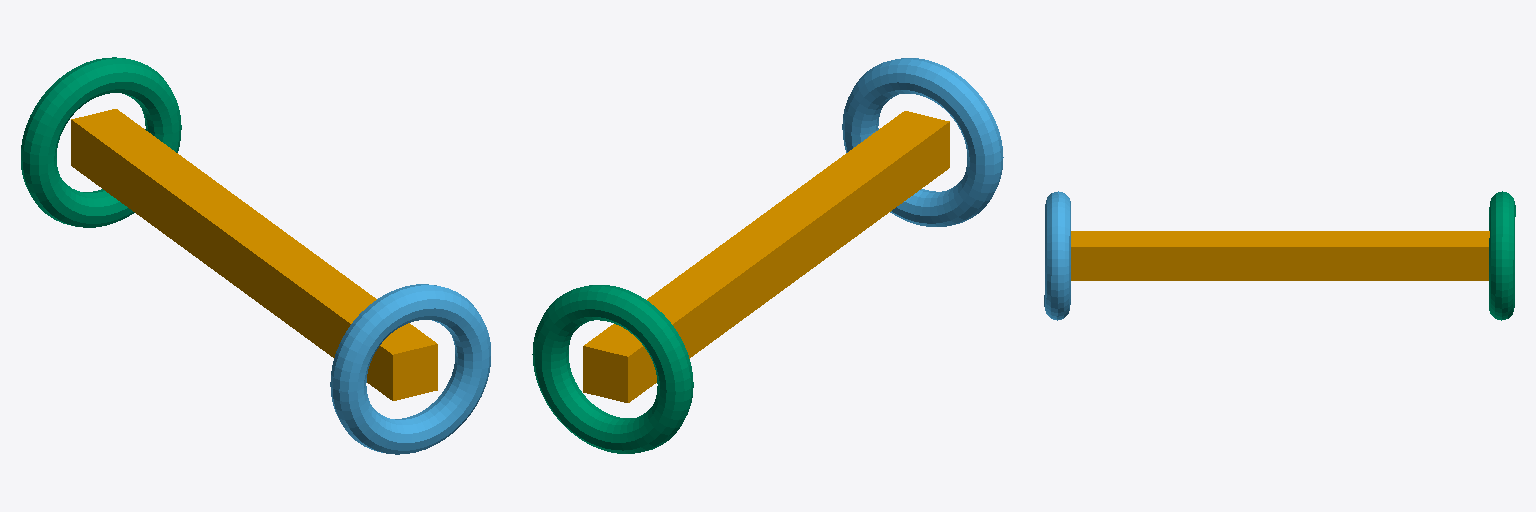
The robot description file, URDF, robot "test":
<robot name="test" version="1.0">
  <joint name="left_wheel_link_joint" type="revolute">
    <limit lower="-3.14000" upper="3.14000" effort="0.00000" velocity="0.00000"/>
    <origin rpy="1.56147 0.00000 0.00000" xyz="0.00000 -1.27497 0.00000"/>
    <parent link="axis_link"/>
    <child link="left_wheel_link"/>
    <axis xyz="0.00000 0.00000 1.00000"/>
  </joint>
  <joint name="right_wheel_link_joint" type="revolute">
    <limit lower="-3.14000" upper="3.14000" effort="0.00000" velocity="0.00000"/>
    <origin rpy="1.56147 0.00000 0.00000" xyz="0.00000 1.25266 0.00000"/>
    <parent link="axis_link"/>
    <child link="right_wheel_link"/>
    <axis xyz="0.00000 0.00000 1.00000"/>
  </joint>
  <link name="axis_link">
    <collision name="axis_collision">
      <origin rpy="0.00000 0.00000 0.00000" xyz="0.00000 0.00000 -0.00355"/>
      <geometry>
        <box size="0.19835 2.51094 0.19658"/>
      </geometry>
    </collision>
    <inertial>
      <inertia ixx="3.14500" ixy="0.00000" ixz="0.00000" iyy="0.04045" iyz="0.00000" izz="3.14545"/>
      <origin rpy="0.00000 0.00000 0.00000" xyz="0.00000 0.00000 0.00000"/>
      <mass value="6.00000"/>
    </inertial>
    <visual name="axis">
      <material name="None"/>
      <origin rpy="1.57080 0.00000 0.00000" xyz="0.00000 0.00000 0.00000"/>
      <geometry>
        <box size="0.20222 0.20000 2.50000"/>
      </geometry>
    </visual>
  </link>
  <link name="left_wheel_link">
    <collision name="left_wheel_collision">
      <origin rpy="-0.00857 0.00000 0.00000" xyz="0.00000 -0.00000 0.00047"/>
      <geometry>
        <mesh filename="../meshes/dae/Torus.dae" scale="0.29646 0.29646 0.29646"/>
      </geometry>
    </collision>
    <inertial>
      <inertia ixx="0.02982" ixy="0.00000" ixz="0.00000" iyy="0.05768" iyz="-0.00026" izz="0.02983"/>
      <origin rpy="0.00000 0.00000 0.00000" xyz="-0.00000 0.00055 -0.05905"/>
      <mass value="1.00000"/>
    </inertial>
    <visual name="left_wheel">
      <material name="None"/>
      <origin rpy="0.00000 0.00000 0.00000" xyz="0.00000 0.00000 -0.00000"/>
      <geometry>
        <mesh filename="../meshes/dae/Torus.dae" scale="0.29646 0.29646 0.29646"/>
      </geometry>
    </visual>
  </link>
  <link name="right_wheel_link">
    <collision name="right_wheel_collision">
      <origin rpy="0.01024 0.00000 0.00000" xyz="0.00000 0.00000 0.00000"/>
      <geometry>
        <mesh filename="../meshes/dae/Torus.001.dae" scale="0.29646 0.29646 0.29646"/>
      </geometry>
    </collision>
    <inertial>
      <inertia ixx="0.02982" ixy="0.00000" ixz="0.00000" iyy="0.05768" iyz="-0.00026" izz="0.02983"/>
      <origin rpy="0.00000 0.00000 0.00000" xyz="-0.00000 -0.00055 0.05905"/>
      <mass value="1.00000"/>
    </inertial>
    <visual name="right_wheel">
      <material name="None"/>
      <origin rpy="0.00000 0.00000 0.00000" xyz="0.00000 0.00000 0.00000"/>
      <geometry>
        <mesh filename="../meshes/dae/Torus.001.dae" scale="0.29646 0.29646 0.29646"/>
      </geometry>
    </visual>
  </link>
</robot>

--- What the picture shows (computed from the rendered views, not written in the file) ---
Views: 3 orthographic renders of the robot side by side, from view 1: azimuth 30°, elevation 25°; view 2: azimuth 150°, elevation 25°; view 3: azimuth 270°, elevation 25°.
Robot: test — 3 links, 2 joints (2 revolute); root link axis_link; default pose: every joint at zero.
Visible links, largest first — view 1: axis_link, left_wheel_link, right_wheel_link; view 2: axis_link, right_wheel_link, left_wheel_link; view 3: axis_link, left_wheel_link, right_wheel_link.
Link boxes in pixels (x1,y1,x2,y2): axis_link: [71, 109, 437, 400]; left_wheel_link: [330, 284, 490, 454]; right_wheel_link: [21, 57, 181, 227]; axis_link: [583, 111, 949, 402]; right_wheel_link: [532, 285, 693, 453]; left_wheel_link: [842, 58, 1003, 226]; axis_link: [1071, 231, 1489, 280]; left_wheel_link: [1044, 191, 1070, 320]; right_wheel_link: [1489, 191, 1515, 320].
Size in the robot's own frame: 0.702 by 2.56 by 0.702 metres.
2 mesh visuals loaded from 2 distinct referenced files (2 Collada DAE).
